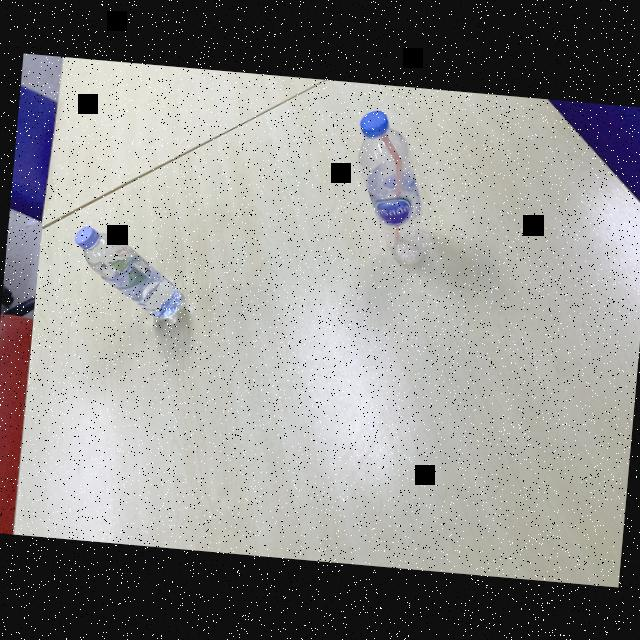plastic_bottle: (344, 109, 439, 269), (68, 224, 191, 322)
